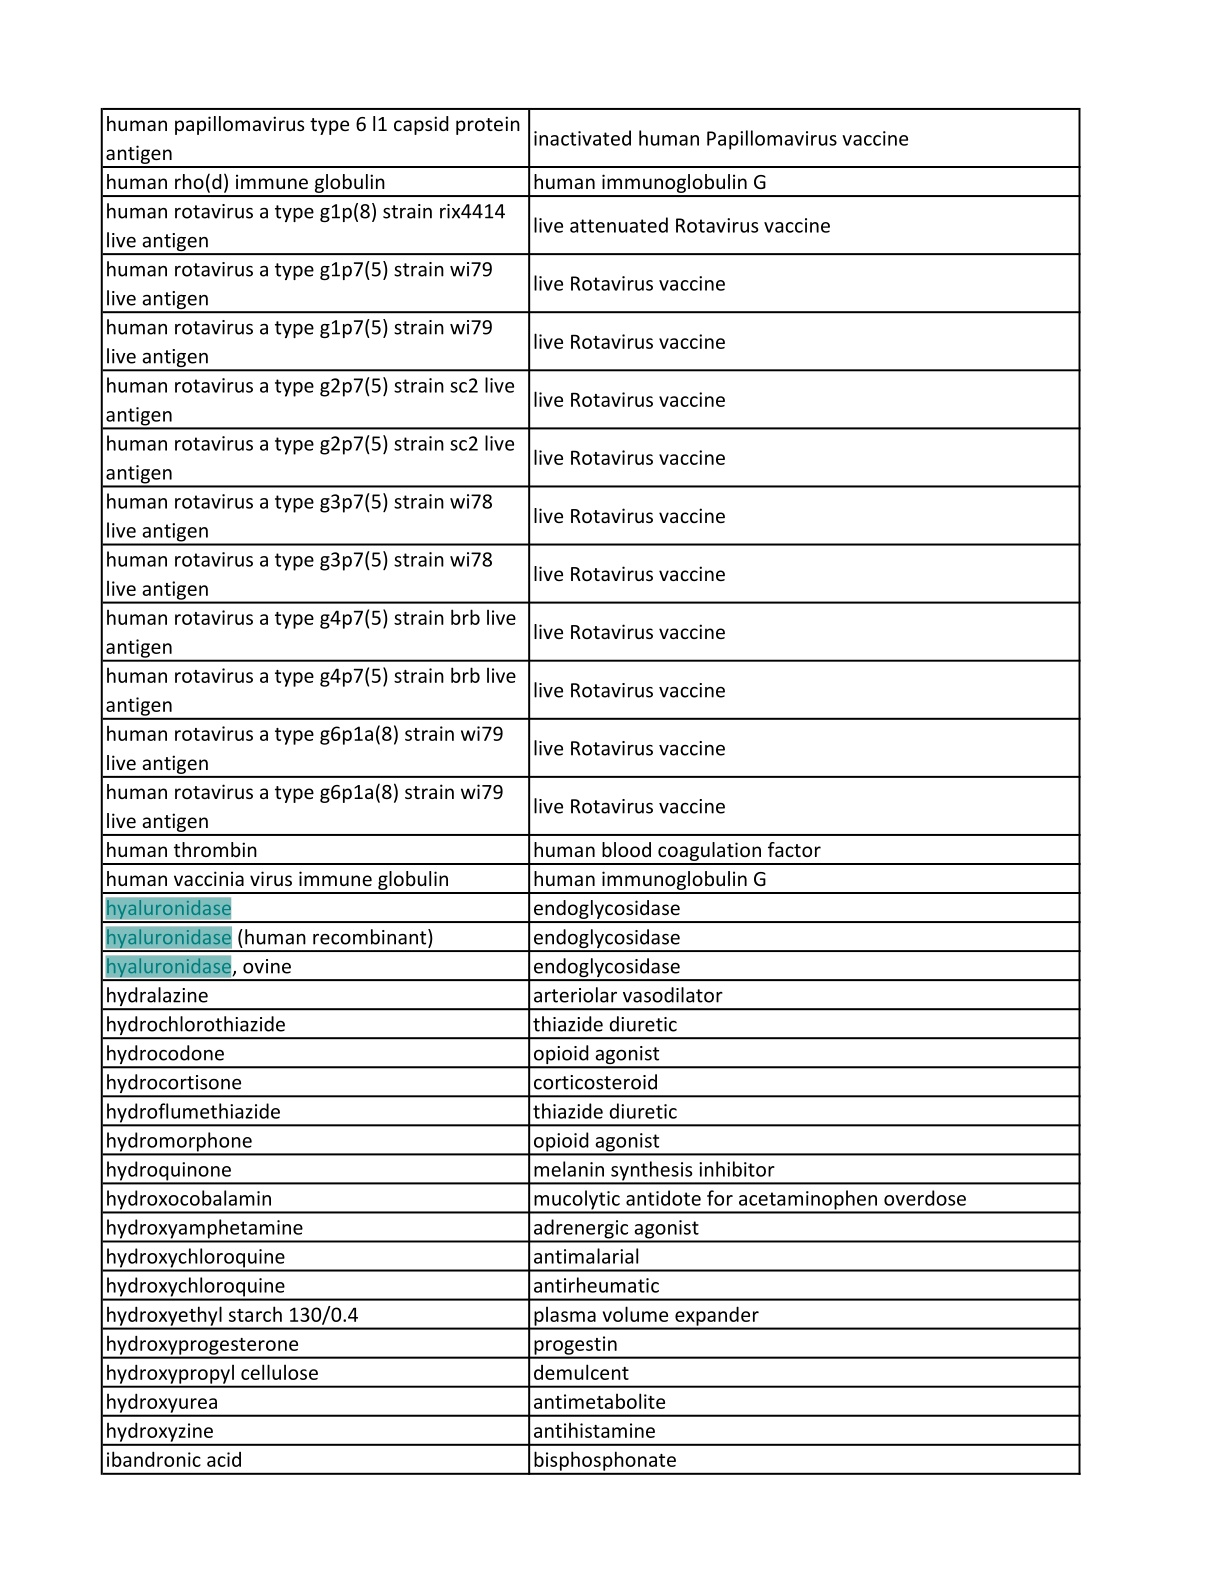full_lined: (99, 107, 1081, 1475)
